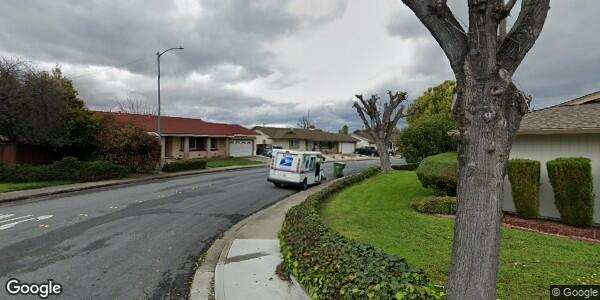Steel_Pole: (154, 45, 186, 171)
